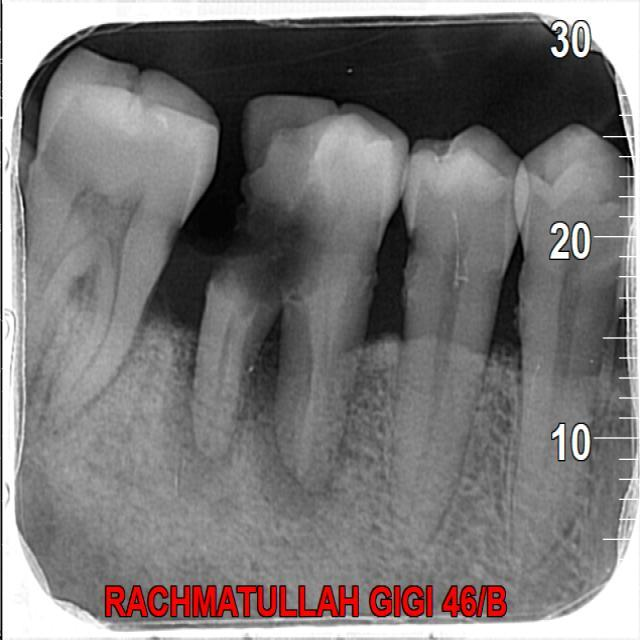individual-tooth-8tto: (191, 97, 406, 486), (0, 50, 211, 418), (396, 119, 530, 547)
